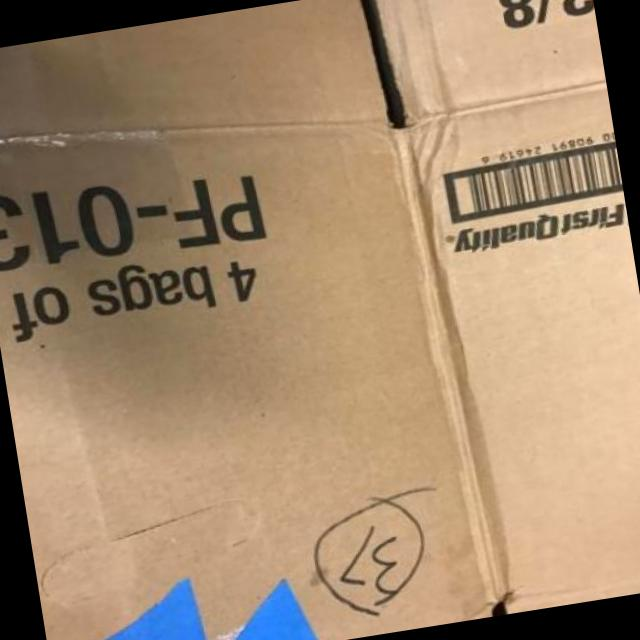cardboard paper: (441, 225, 640, 595)
